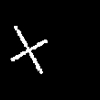single_crochet: (11, 26, 46, 73)
